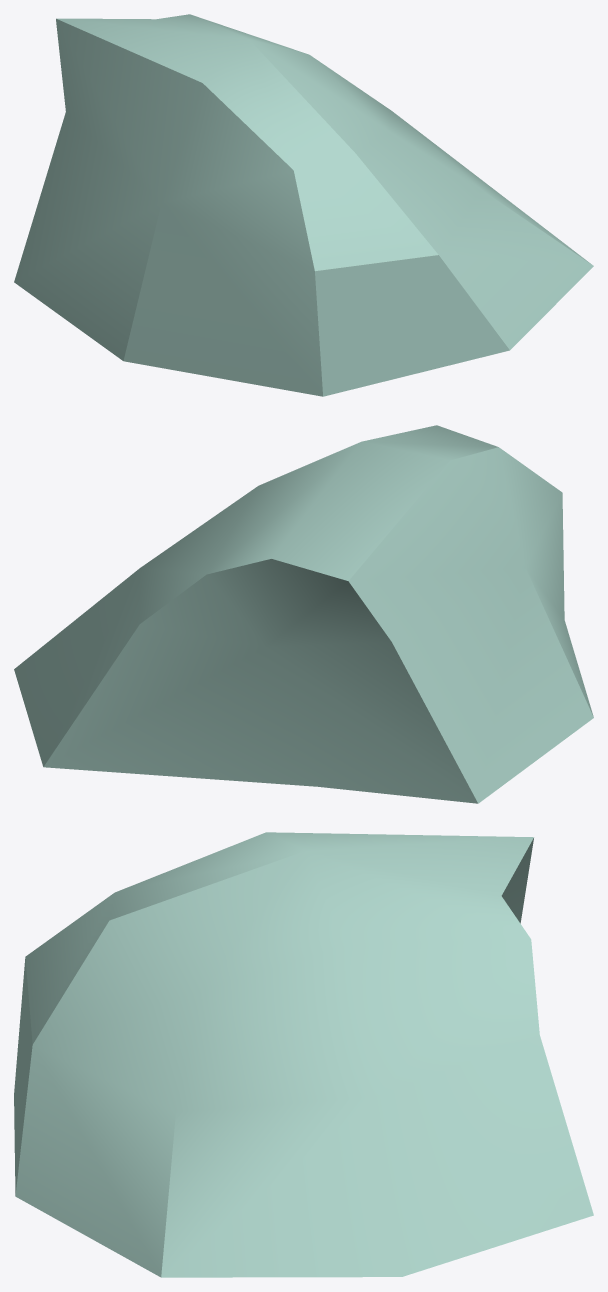
Rendered from Asset_Rock_smallB.fbx.
3 views of the same model, one above another, from view 1: azimuth 30°, elevation 25°; view 2: azimuth 150°, elevation 25°; view 3: azimuth 270°, elevation 25° (orthographic). The views are drawn at different scales.
Visible parts, largest first — view 1: Cube; view 2: Cube; view 3: Cube.
Boxes of the visible parts, left/top/right/bottom form: Cube: left=14, top=14, right=593, bottom=396; Cube: left=14, top=425, right=593, bottom=803; Cube: left=14, top=832, right=593, bottom=1277.
Size of the model in its own units: 190 by 99.56 by 190.
